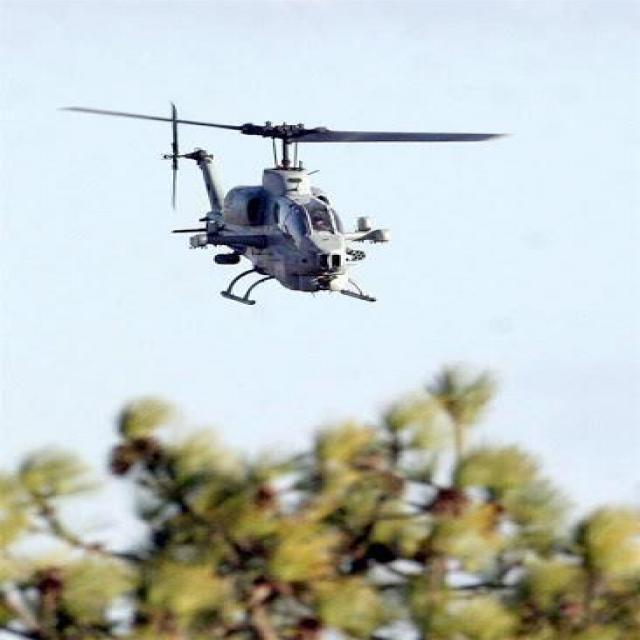MIL_HELO: (56, 98, 544, 311)
